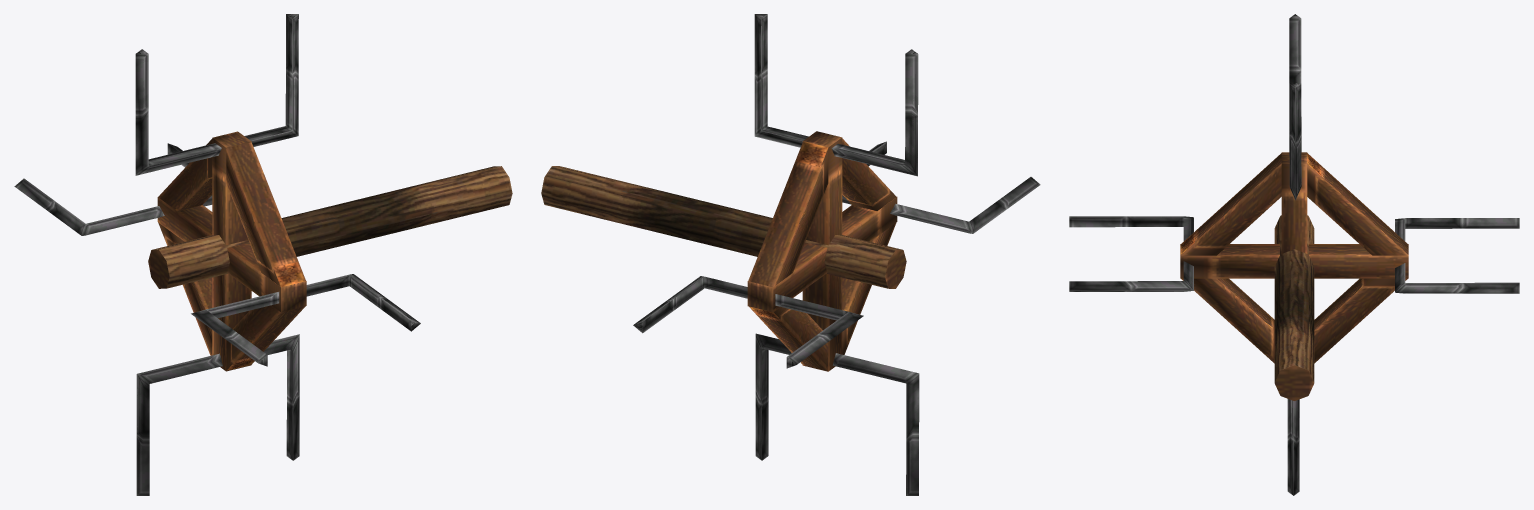
The model's file is INST_SWORDLIGHT_ELEVA-STOP.obj.
3 renders of one model, left to right at view 1: azimuth 30°, elevation 25°; view 2: azimuth 150°, elevation 25°; view 3: azimuth 270°, elevation 25°, orthographic. The views are drawn at different scales.
Parts seen in each view (by area): view 1: evAStop_Lod1_01; view 2: evAStop_Lod1_01; view 3: evAStop_Lod1_01.
Boxes of the visible parts, x1,y1,x2,y2 form: evAStop_Lod1_01: [14, 14, 512, 495]; evAStop_Lod1_01: [541, 14, 1040, 495]; evAStop_Lod1_01: [1069, 14, 1519, 495].
Bounding box in the file's own units: 490 × 566 × 566.
